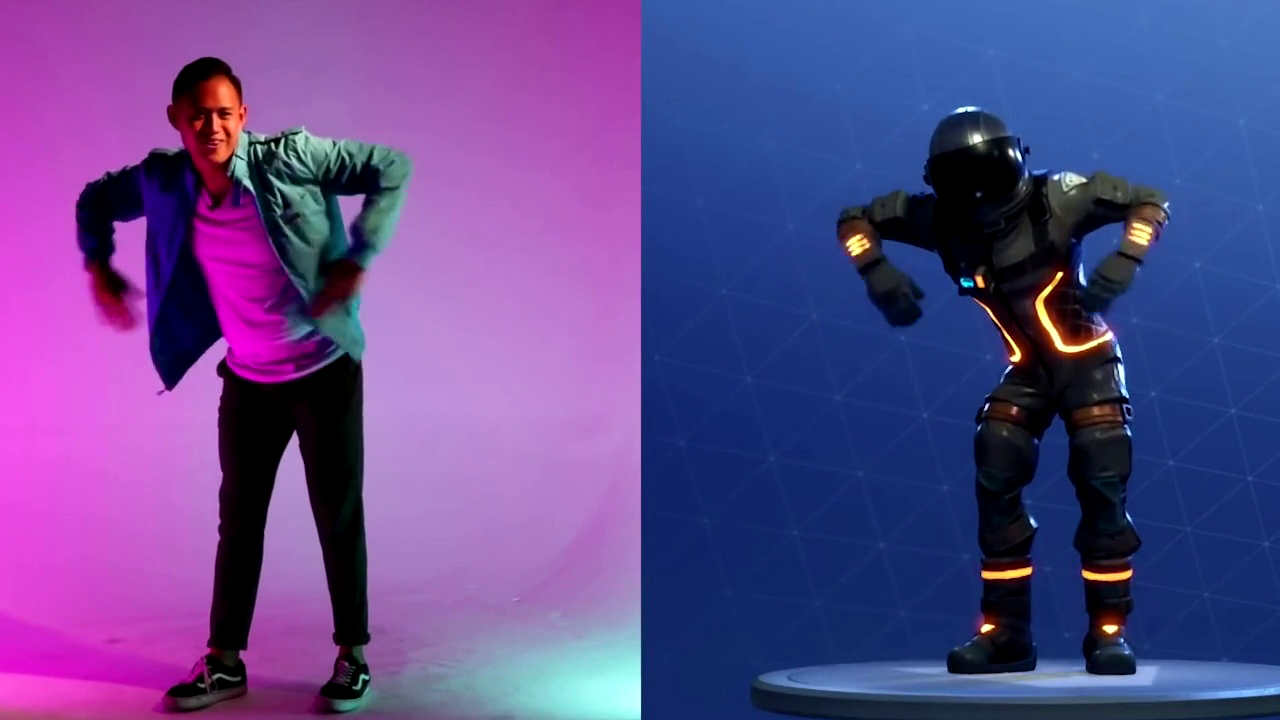Head: (165, 54, 273, 166)
Hip: (189, 333, 394, 442)
LeftAnkle: (298, 634, 409, 715)
LeftElbow: (352, 137, 426, 217)
LeftKnee: (302, 481, 385, 561)
LeftShoulder: (256, 124, 343, 197)
LeftWrist: (275, 252, 400, 329)
RightAnkle: (142, 630, 270, 718)
RightElbow: (62, 163, 153, 238)
RightKnee: (186, 491, 286, 575)
RightShoulder: (122, 128, 204, 199)
RightWrist: (74, 259, 171, 341)
Torso: (143, 165, 355, 385)
